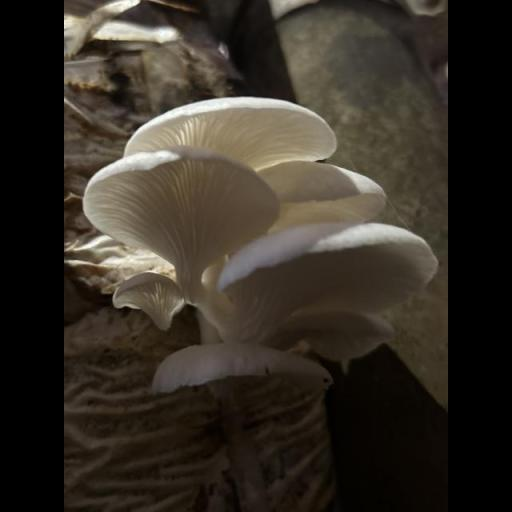White Oyster Mushroom: (83, 95, 435, 391)
